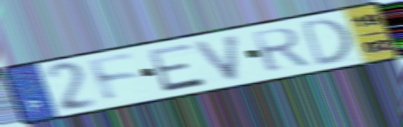2: (46, 58, 101, 117)
D: (299, 16, 356, 69)
E: (144, 41, 209, 95)
F: (84, 51, 144, 105)
R: (248, 26, 313, 75)
V: (191, 31, 244, 83)
